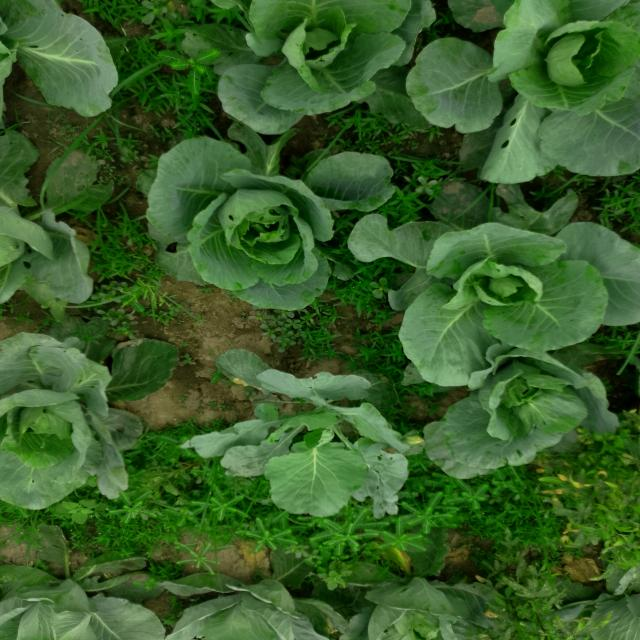Cabbage: (133, 101, 381, 312), (384, 193, 640, 396), (400, 0, 640, 190), (0, 334, 182, 544), (419, 364, 618, 544), (210, 343, 417, 516), (0, 0, 187, 158), (189, 0, 419, 126), (0, 163, 154, 338), (156, 557, 346, 640), (0, 555, 175, 640), (337, 571, 506, 640), (559, 555, 640, 640)
